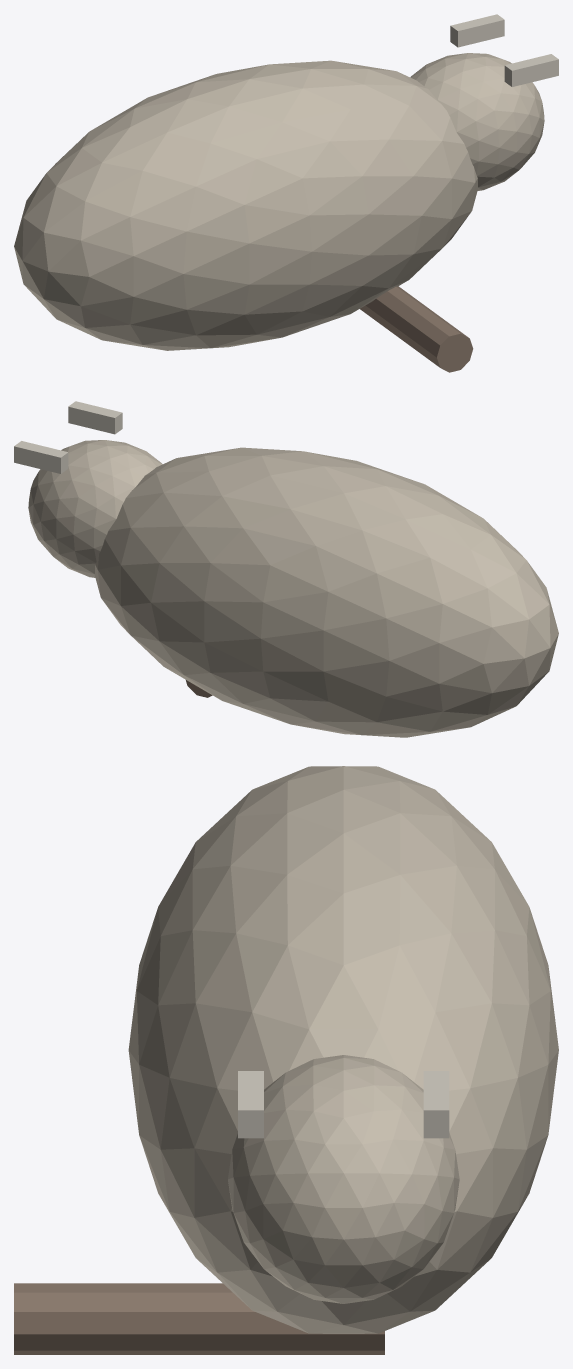
Rendered from cow-high.glb.
3 views of the same model, one above another, from view 1: azimuth 30°, elevation 25°; view 2: azimuth 150°, elevation 25°; view 3: azimuth 270°, elevation 25° (orthographic). The views are drawn at different scales.
Parts seen in each view (by area): view 1: body, head, leg, horn, horn2; view 2: body, head, horn2, horn; view 3: body, head, leg, horn, horn2.
Part boxes in pixels (bbox=[...]): body: bbox=[14, 60, 478, 350]; head: bbox=[410, 53, 544, 190]; leg: bbox=[360, 286, 473, 372]; horn: bbox=[450, 14, 504, 47]; horn2: bbox=[504, 54, 558, 86]; body: bbox=[94, 447, 558, 737]; head: bbox=[28, 440, 162, 577]; horn2: bbox=[68, 401, 122, 434]; horn: bbox=[14, 441, 68, 473]; body: bbox=[128, 766, 558, 1333]; head: bbox=[228, 1055, 459, 1303]; leg: bbox=[14, 1283, 384, 1354]; horn: bbox=[423, 1071, 449, 1138]; horn2: bbox=[238, 1071, 263, 1138].
Size of the model in its own units: 1.98 by 0.928 by 1.06.
